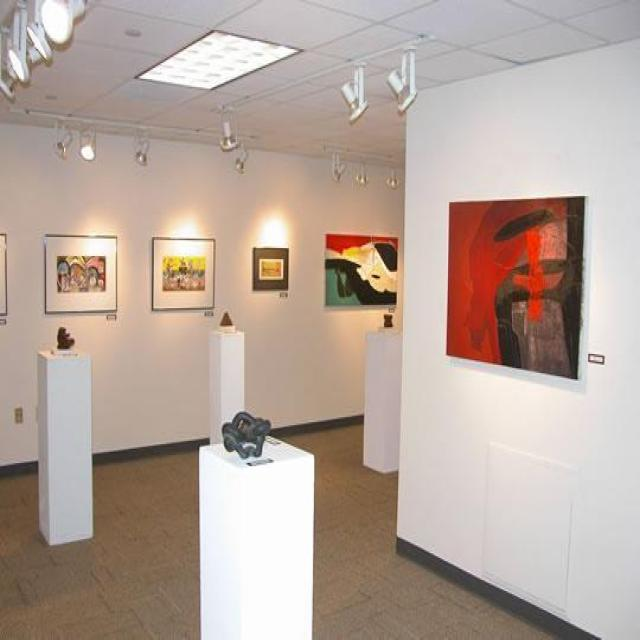cupboard: (36, 346, 94, 545)
door: (394, 35, 638, 638)
table: (198, 432, 314, 638)
table-lamp: (0, 0, 92, 101)
